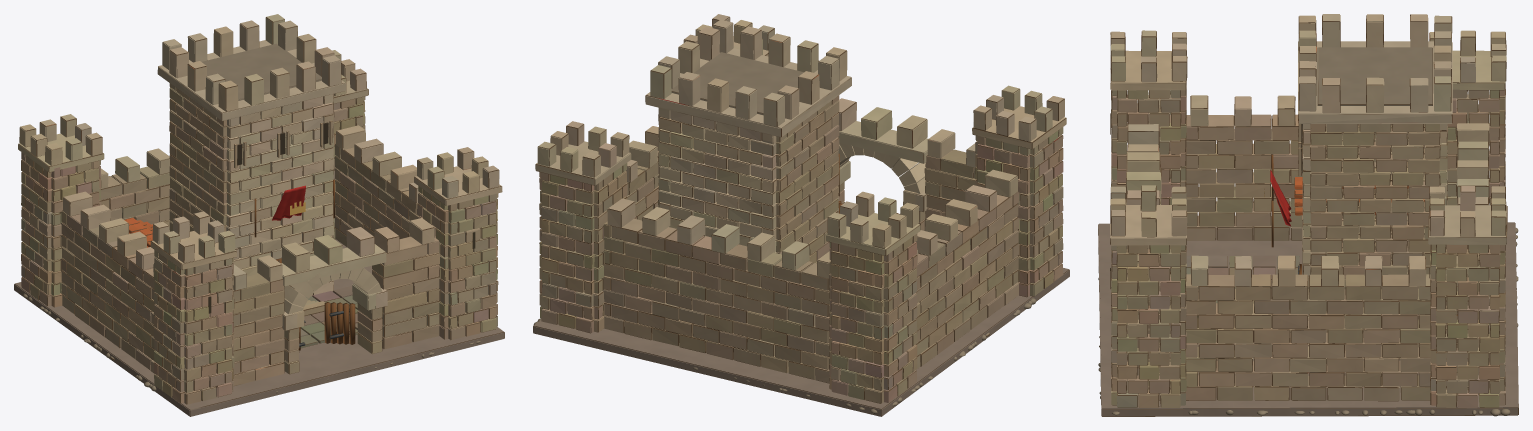
The model's file is SM_FortalezaCastellanaNatural_A_LOD0.fbx.
The picture shows the model from 3 angles, left to right: view 1: azimuth 30°, elevation 25°; view 2: azimuth 150°, elevation 25°; view 3: azimuth 270°, elevation 25°; orthographic projection. The views are drawn at different scales.
Parts seen in each view (by area): view 1: SM_FortalezaCastellanaNatural_A_LOD0; view 2: SM_FortalezaCastellanaNatural_A_LOD0; view 3: SM_FortalezaCastellanaNatural_A_LOD0.
Part boxes in pixels (box(x1,y1,x2,y2)): SM_FortalezaCastellanaNatural_A_LOD0: box(14, 14, 504, 416); SM_FortalezaCastellanaNatural_A_LOD0: box(533, 14, 1069, 416); SM_FortalezaCastellanaNatural_A_LOD0: box(1098, 14, 1518, 416).
Size of the model in its own units: 1.13 by 0.7951 by 1.06.
Materials: 1 (1 with a texture image).
